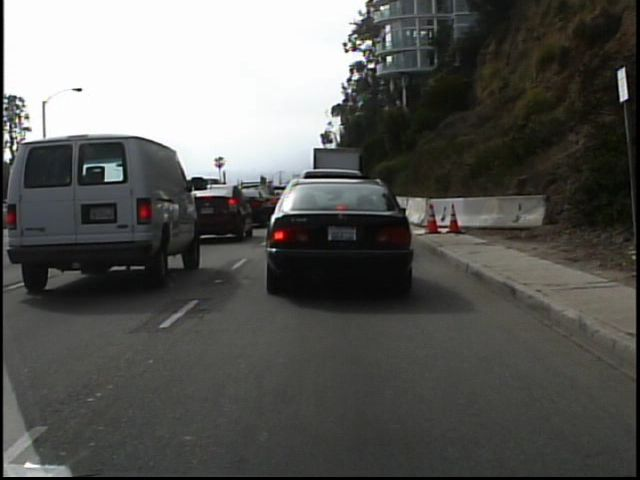car: (9, 127, 214, 298), (258, 173, 407, 303)
